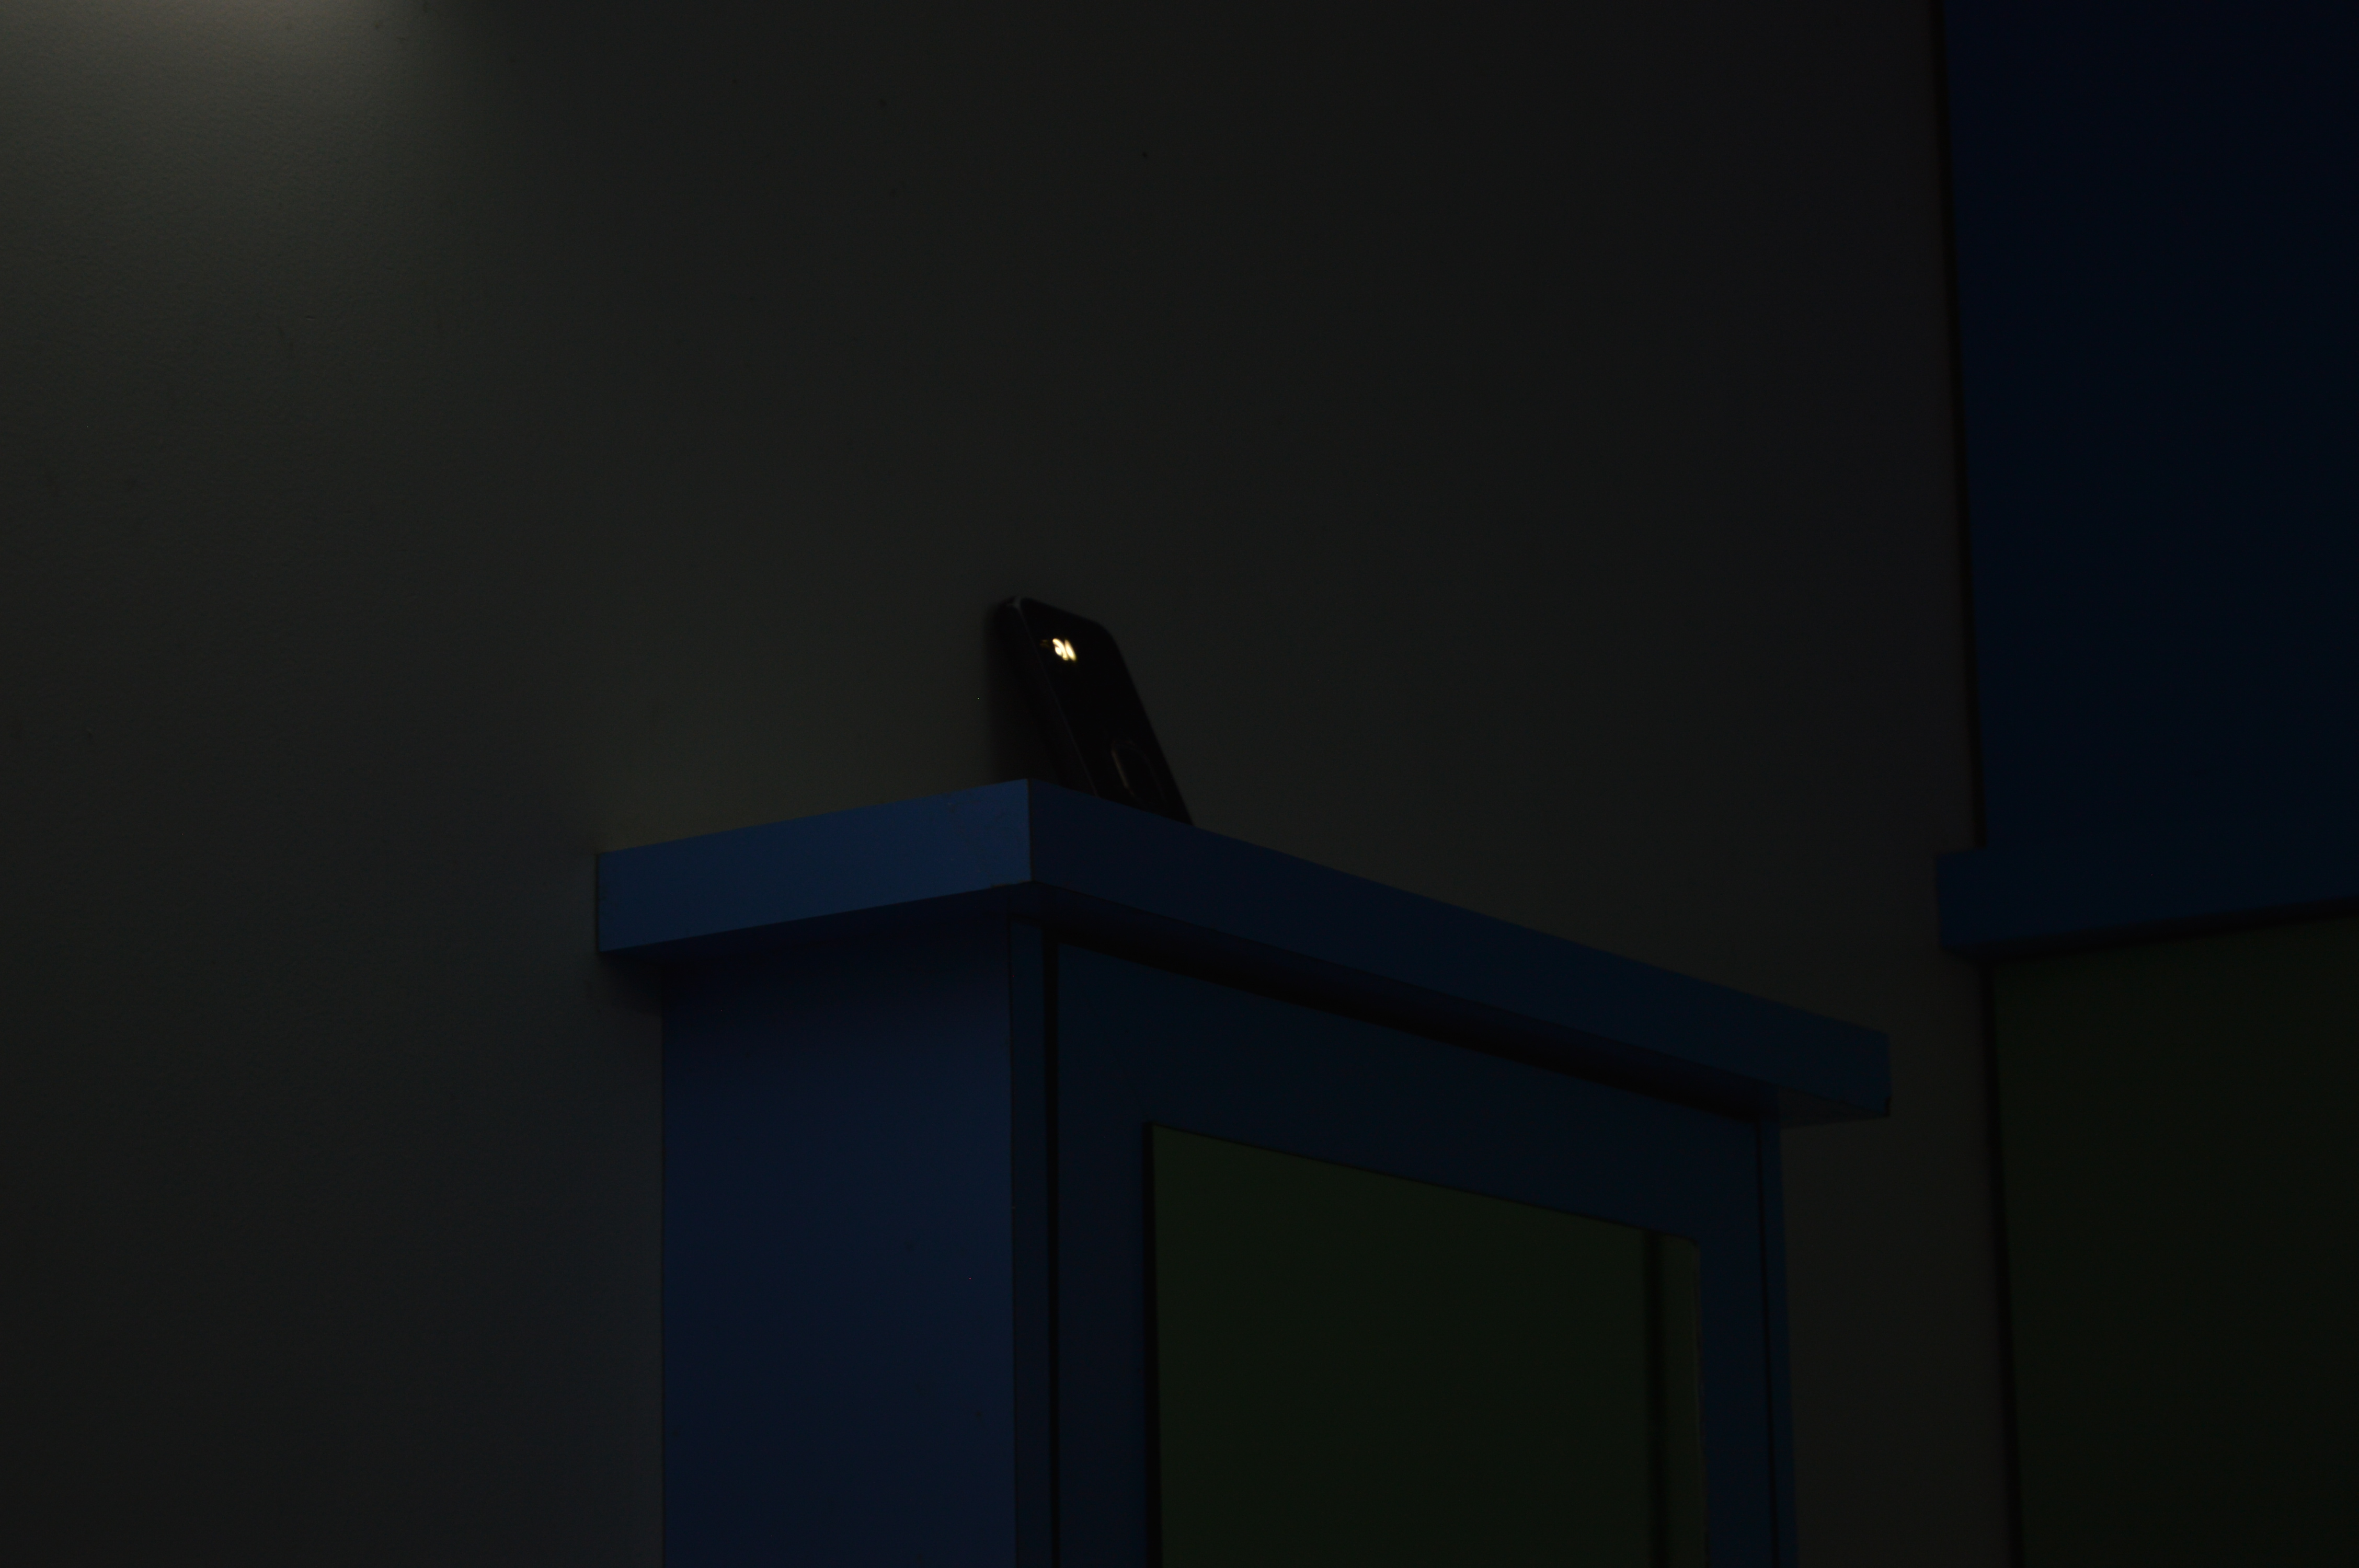Glare: (1052, 633, 1076, 658)
